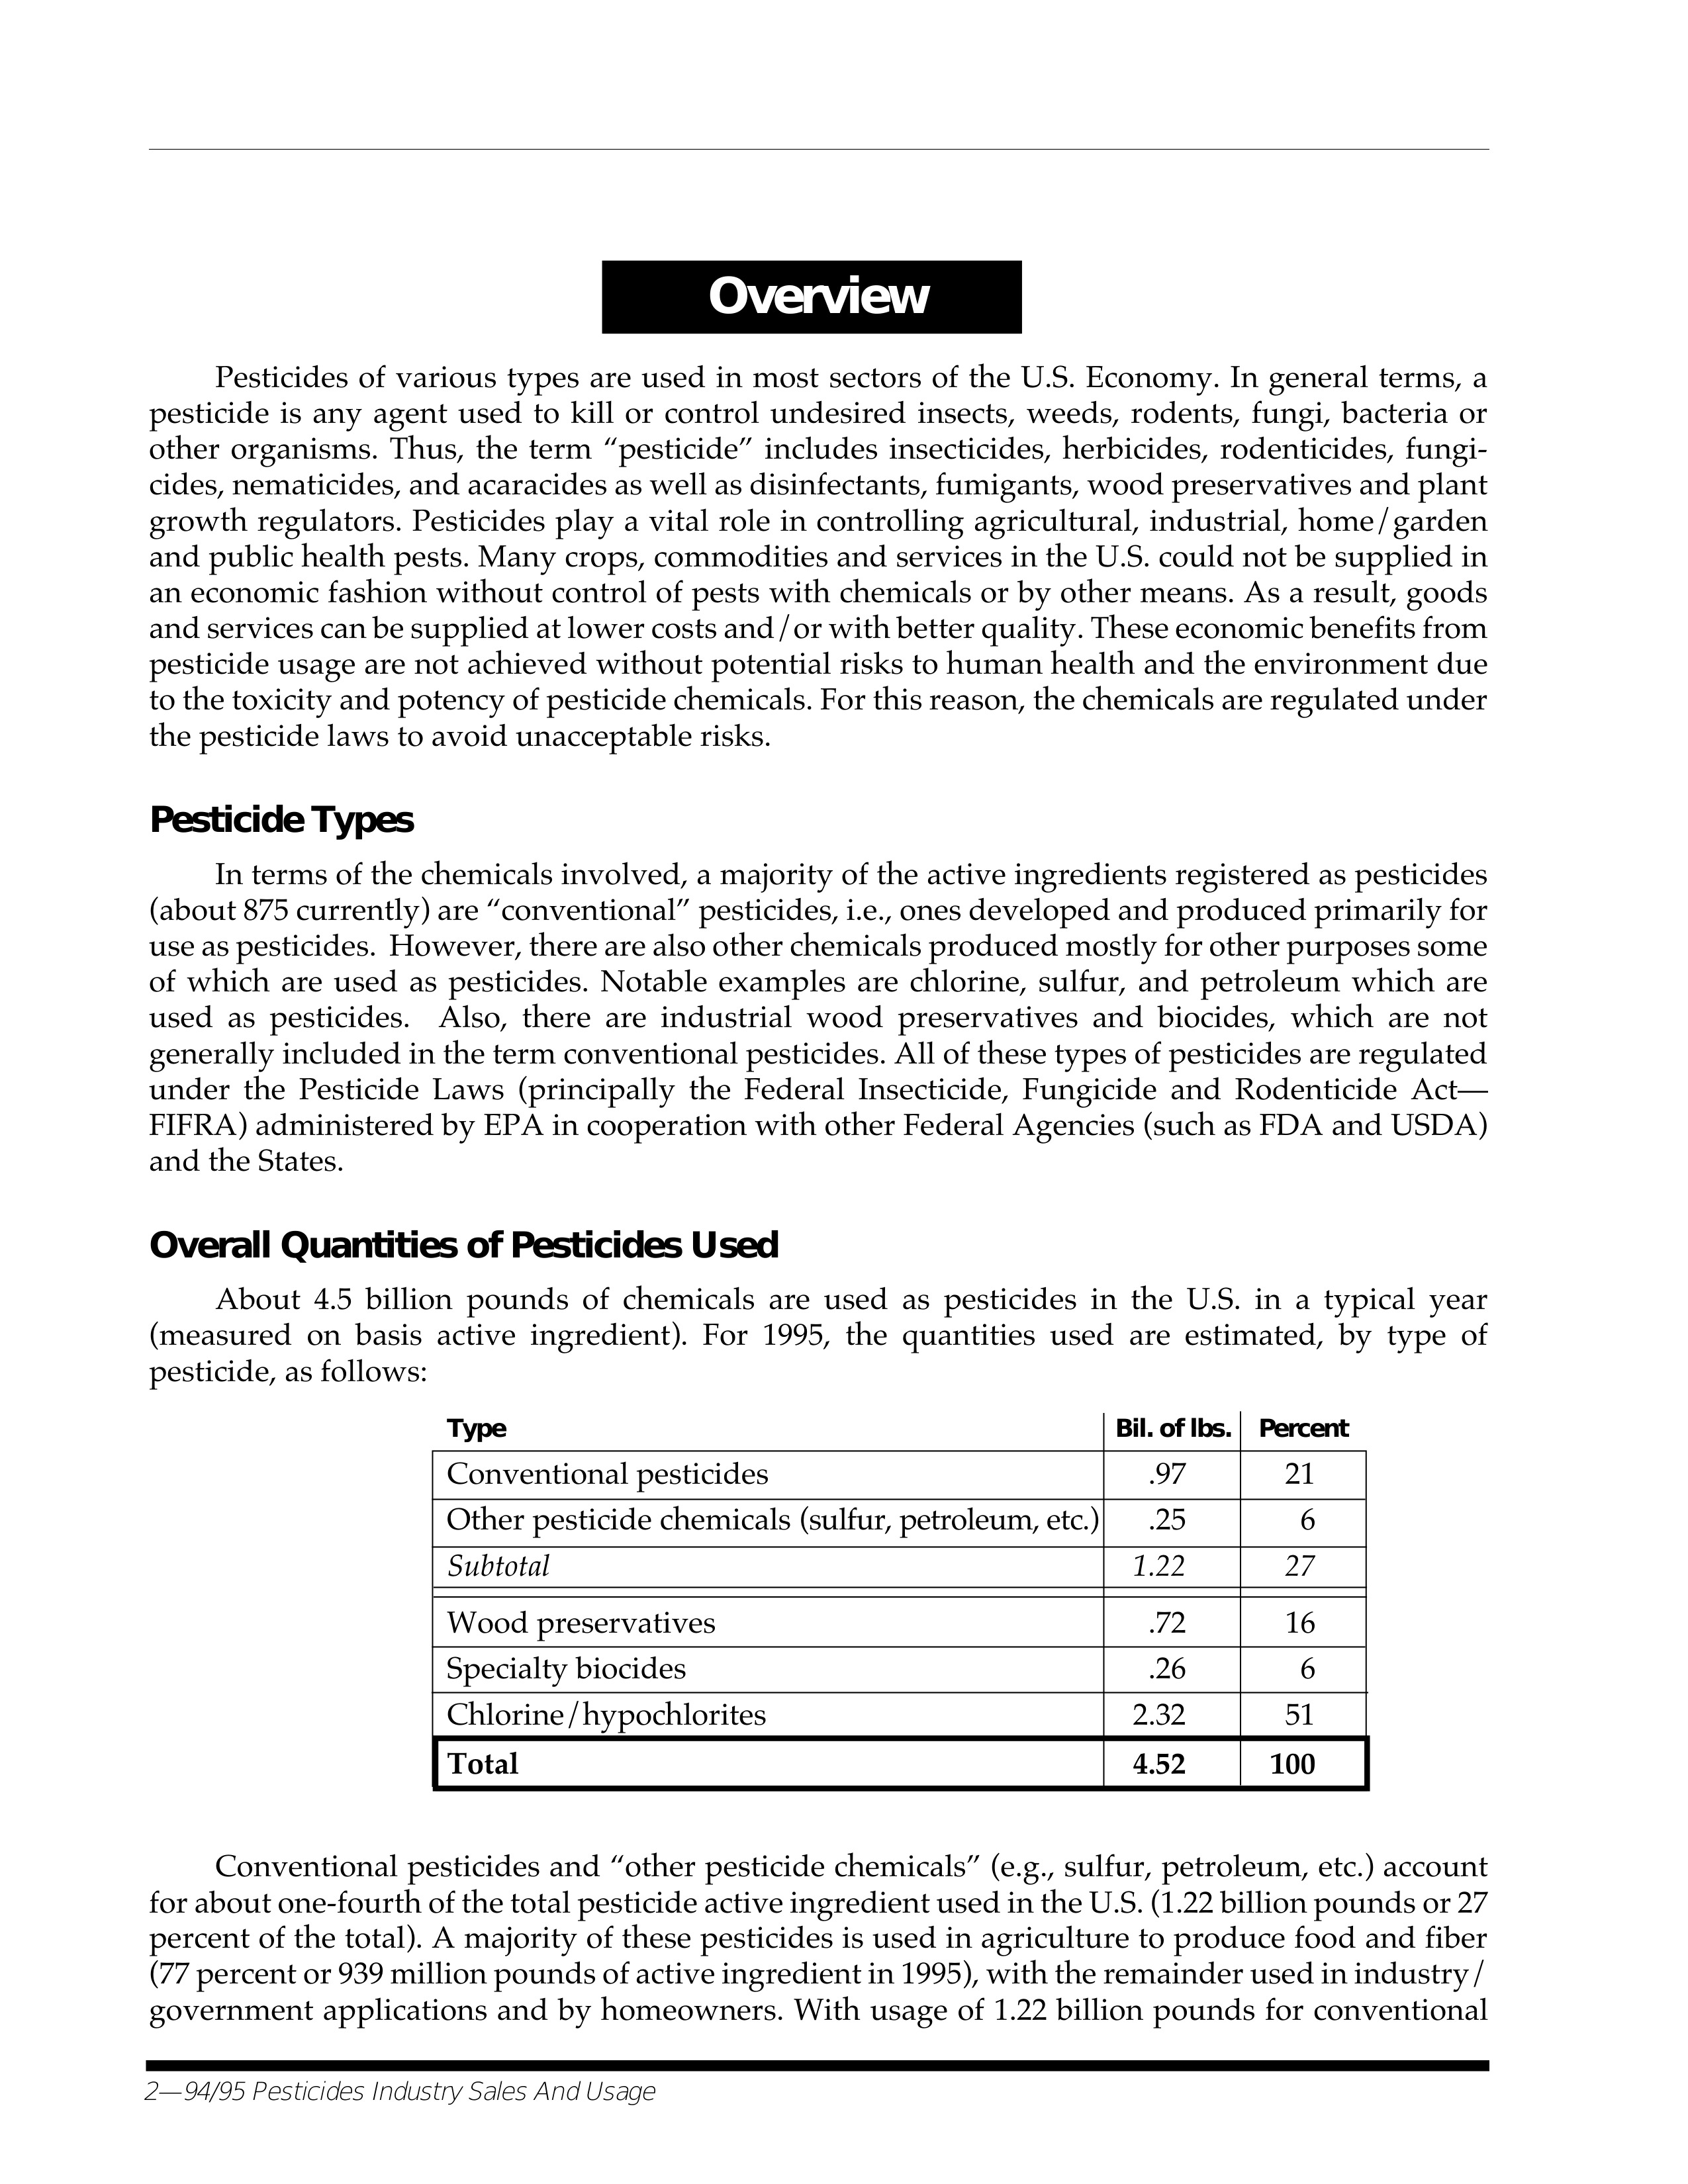table: (447, 1413, 1349, 1782)
